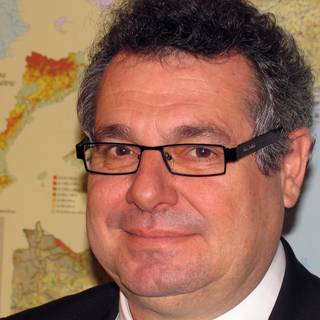eye: (174, 139, 227, 166), (97, 138, 139, 164)
